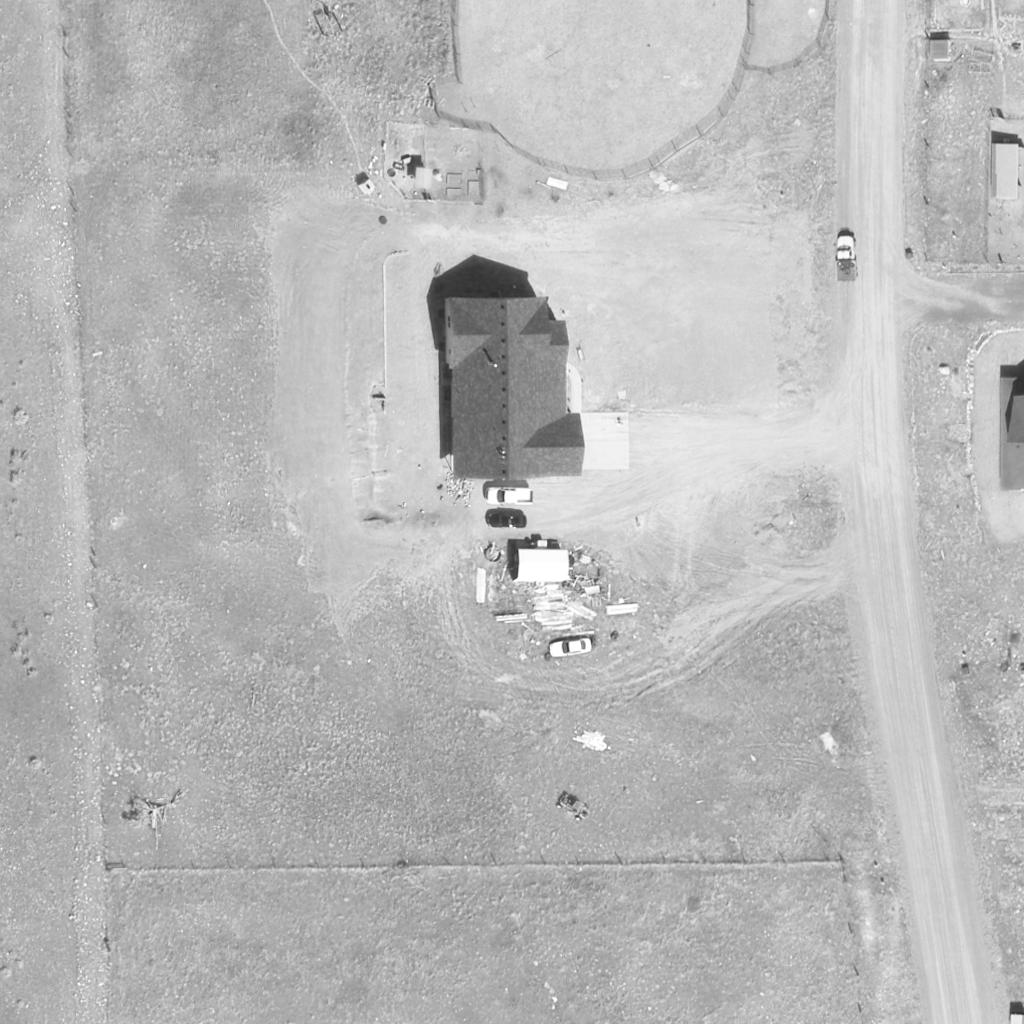vehicle: (548, 638, 594, 660), (837, 235, 857, 283), (484, 489, 534, 505), (486, 511, 526, 529)
